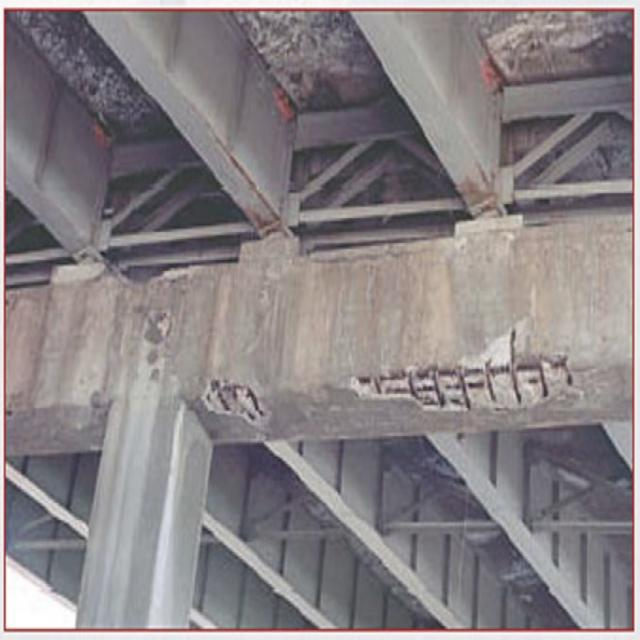Spalling: (346, 322, 591, 428), (195, 361, 274, 435)
